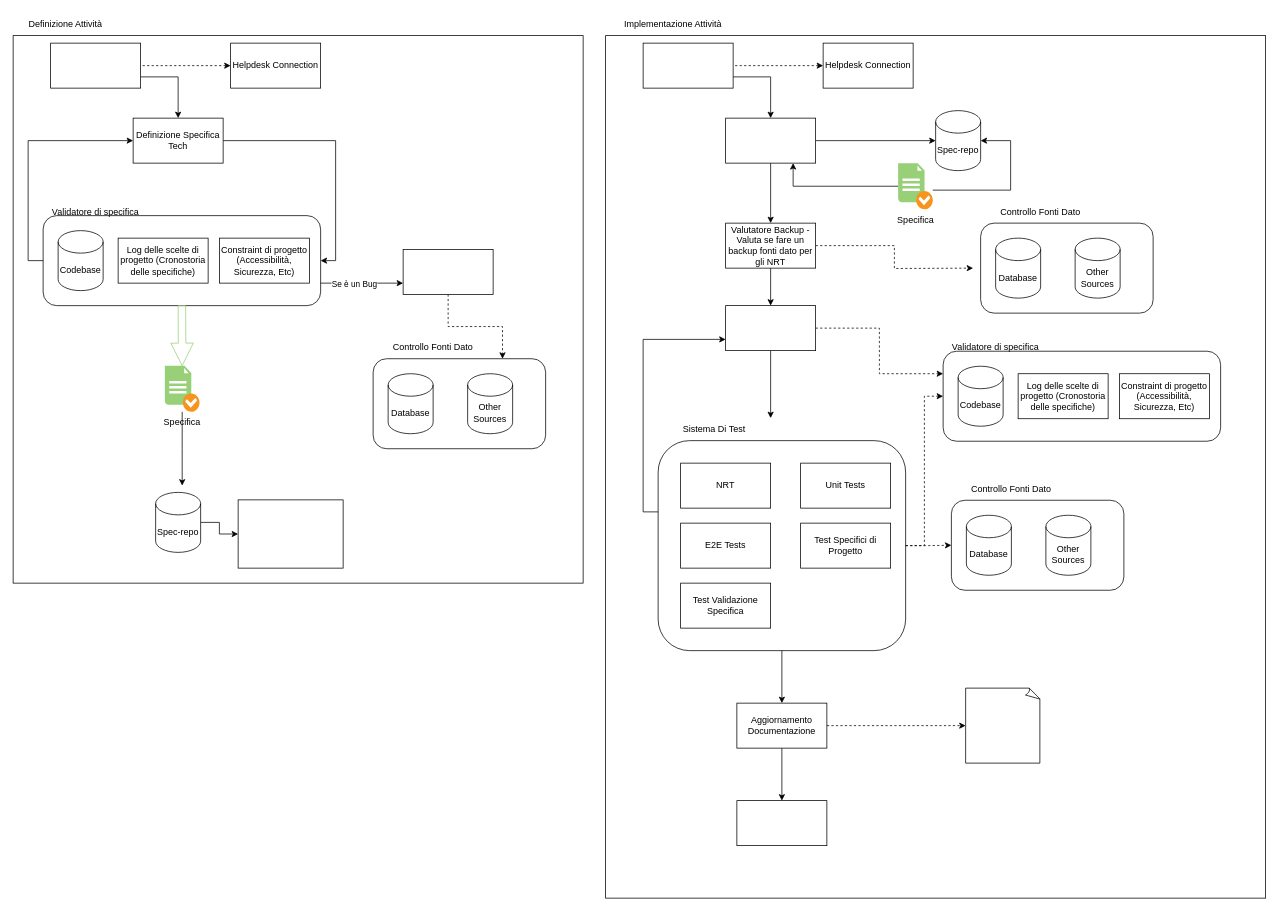
Some shapes in this 1279 by 911 pixel diagram are drawn without their labels. The shapes that lost their labels are listed below. From the top down, each one's centre as x and y in pixels, then its label:
the point at 95,65: Ticketing System Connection (Productive) - CR/BUG
the point at 687,65: Ticketing System Connection (Productive) - Spec
the point at 770,140: Implementazione Specifica Tech
the point at 447,271: Validatore e Risolutore Bug
the point at 770,328: Sviluppo software
the point at 290,533: Ticketing System Connection (Productive) - Update Task with Spec ref
the point at 1003,725: Documentazione
the point at 781,823: Ticketing System Connection (Productive) - Update Task Ststus
